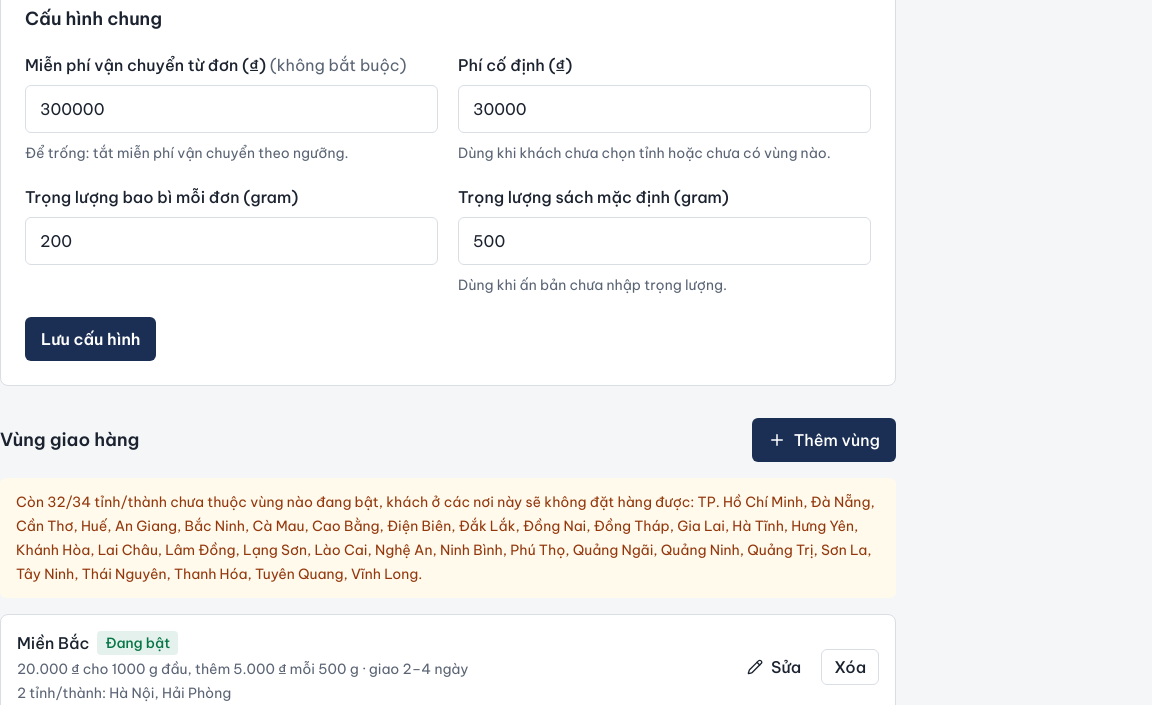
Test case: ShippingManager › xóa vùng sau khi xác nhận
(page scrolled)
Step 1. Click the button "Xóa" → point(850, 667), box x1=821 y1=649 x2=879 y2=685
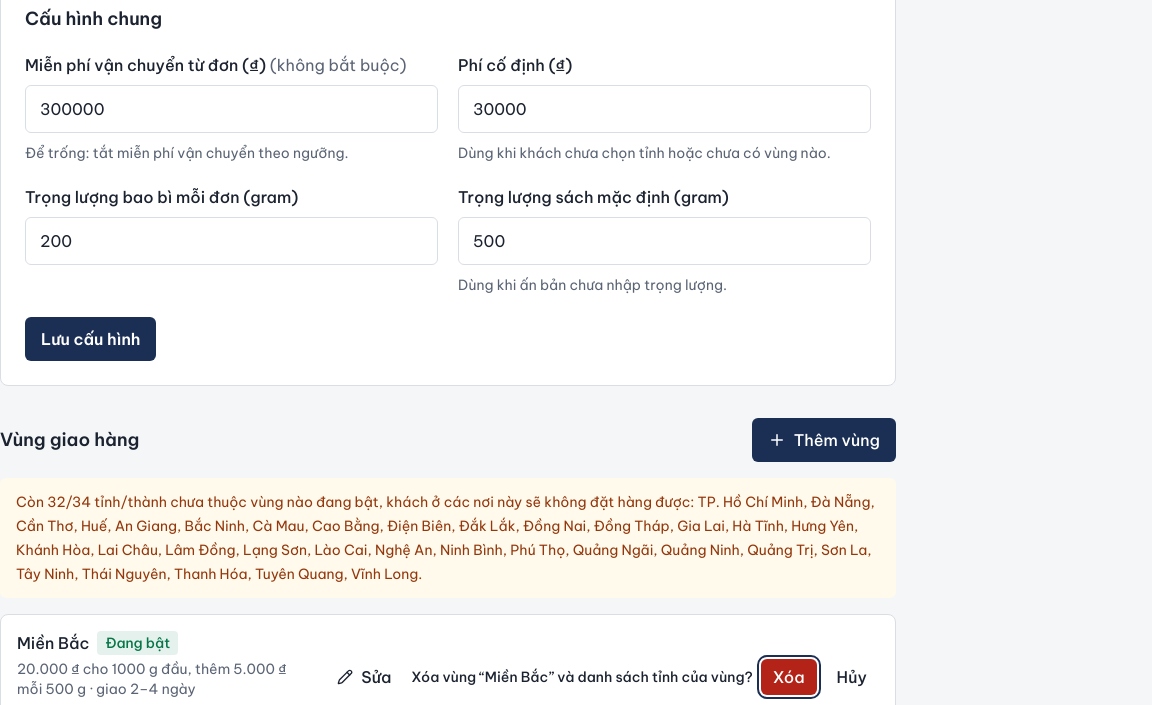
Step 2. Click the button "Xóa" → point(789, 677), box x1=761 y1=659 x2=817 y2=695
(page scrolled)
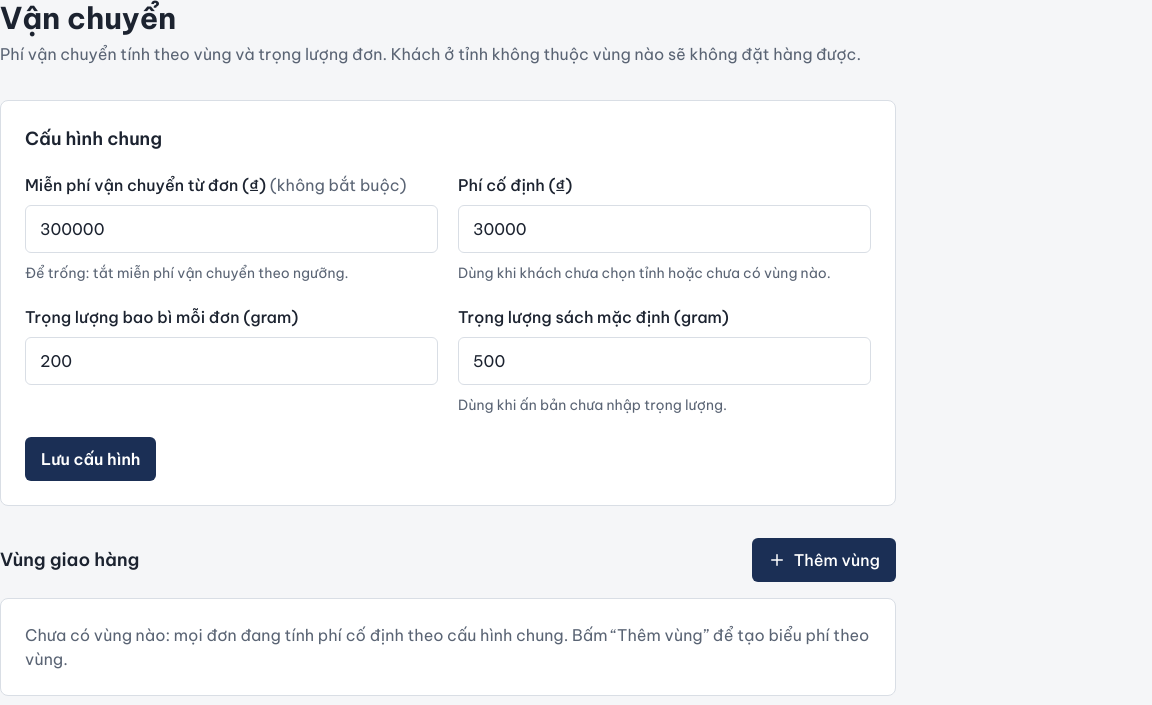
Result: the text "Chưa có vùng nào" is shown at x1=25 y1=625 x2=869 y2=669
